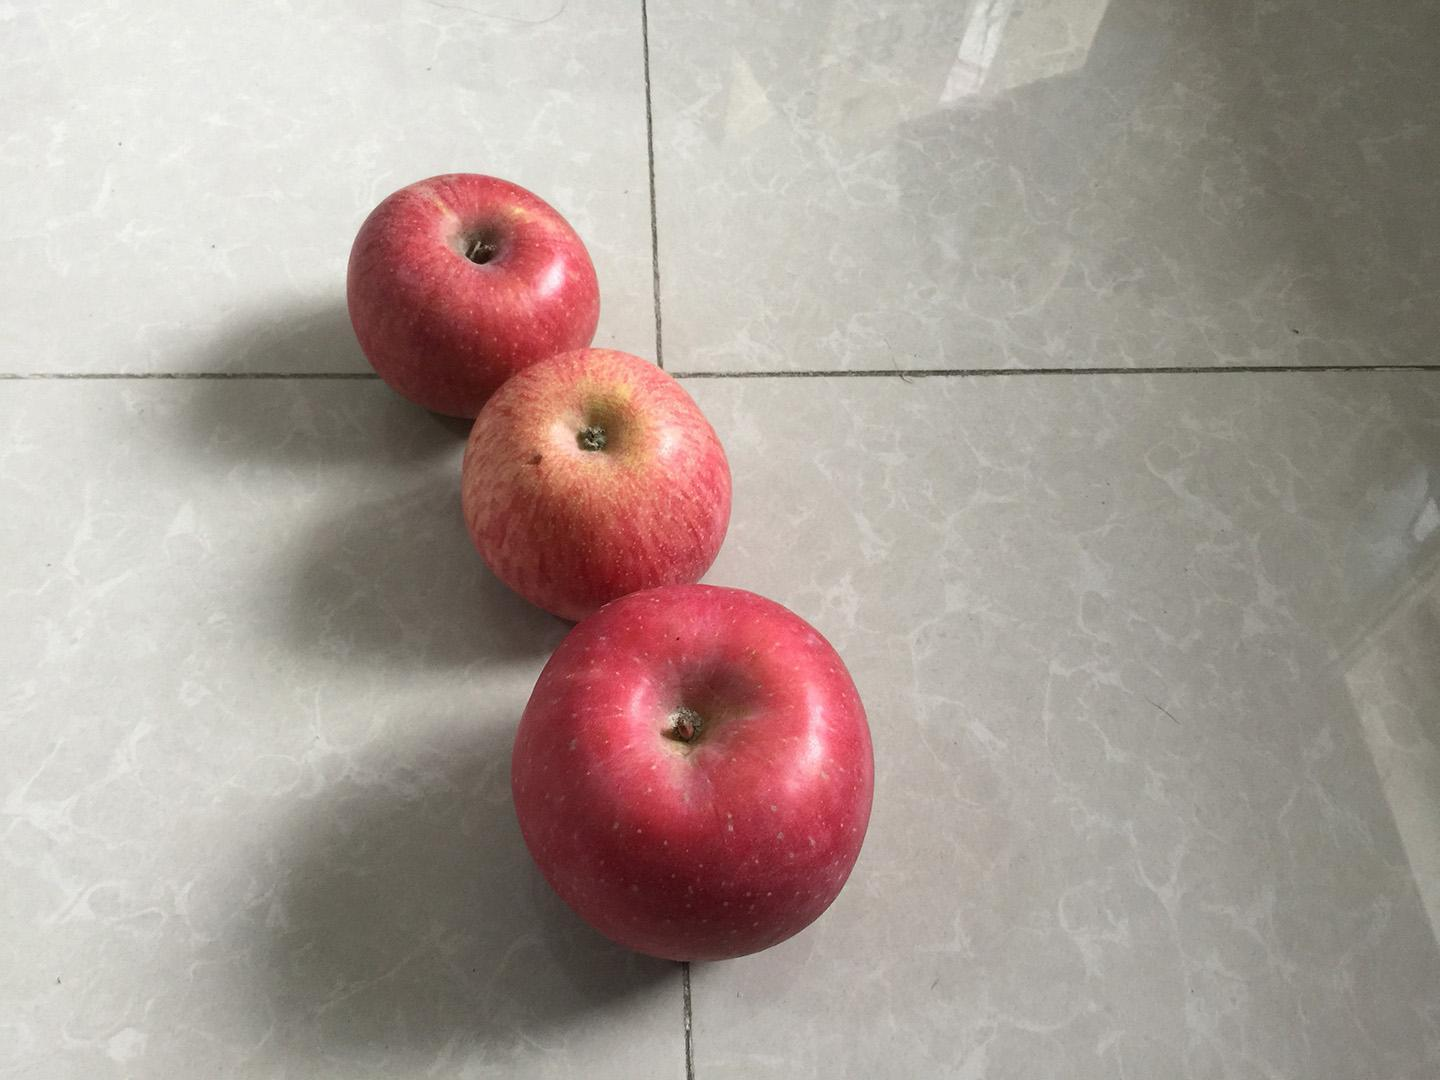apple: (505, 574, 889, 972), (451, 339, 744, 634), (337, 166, 617, 434)
